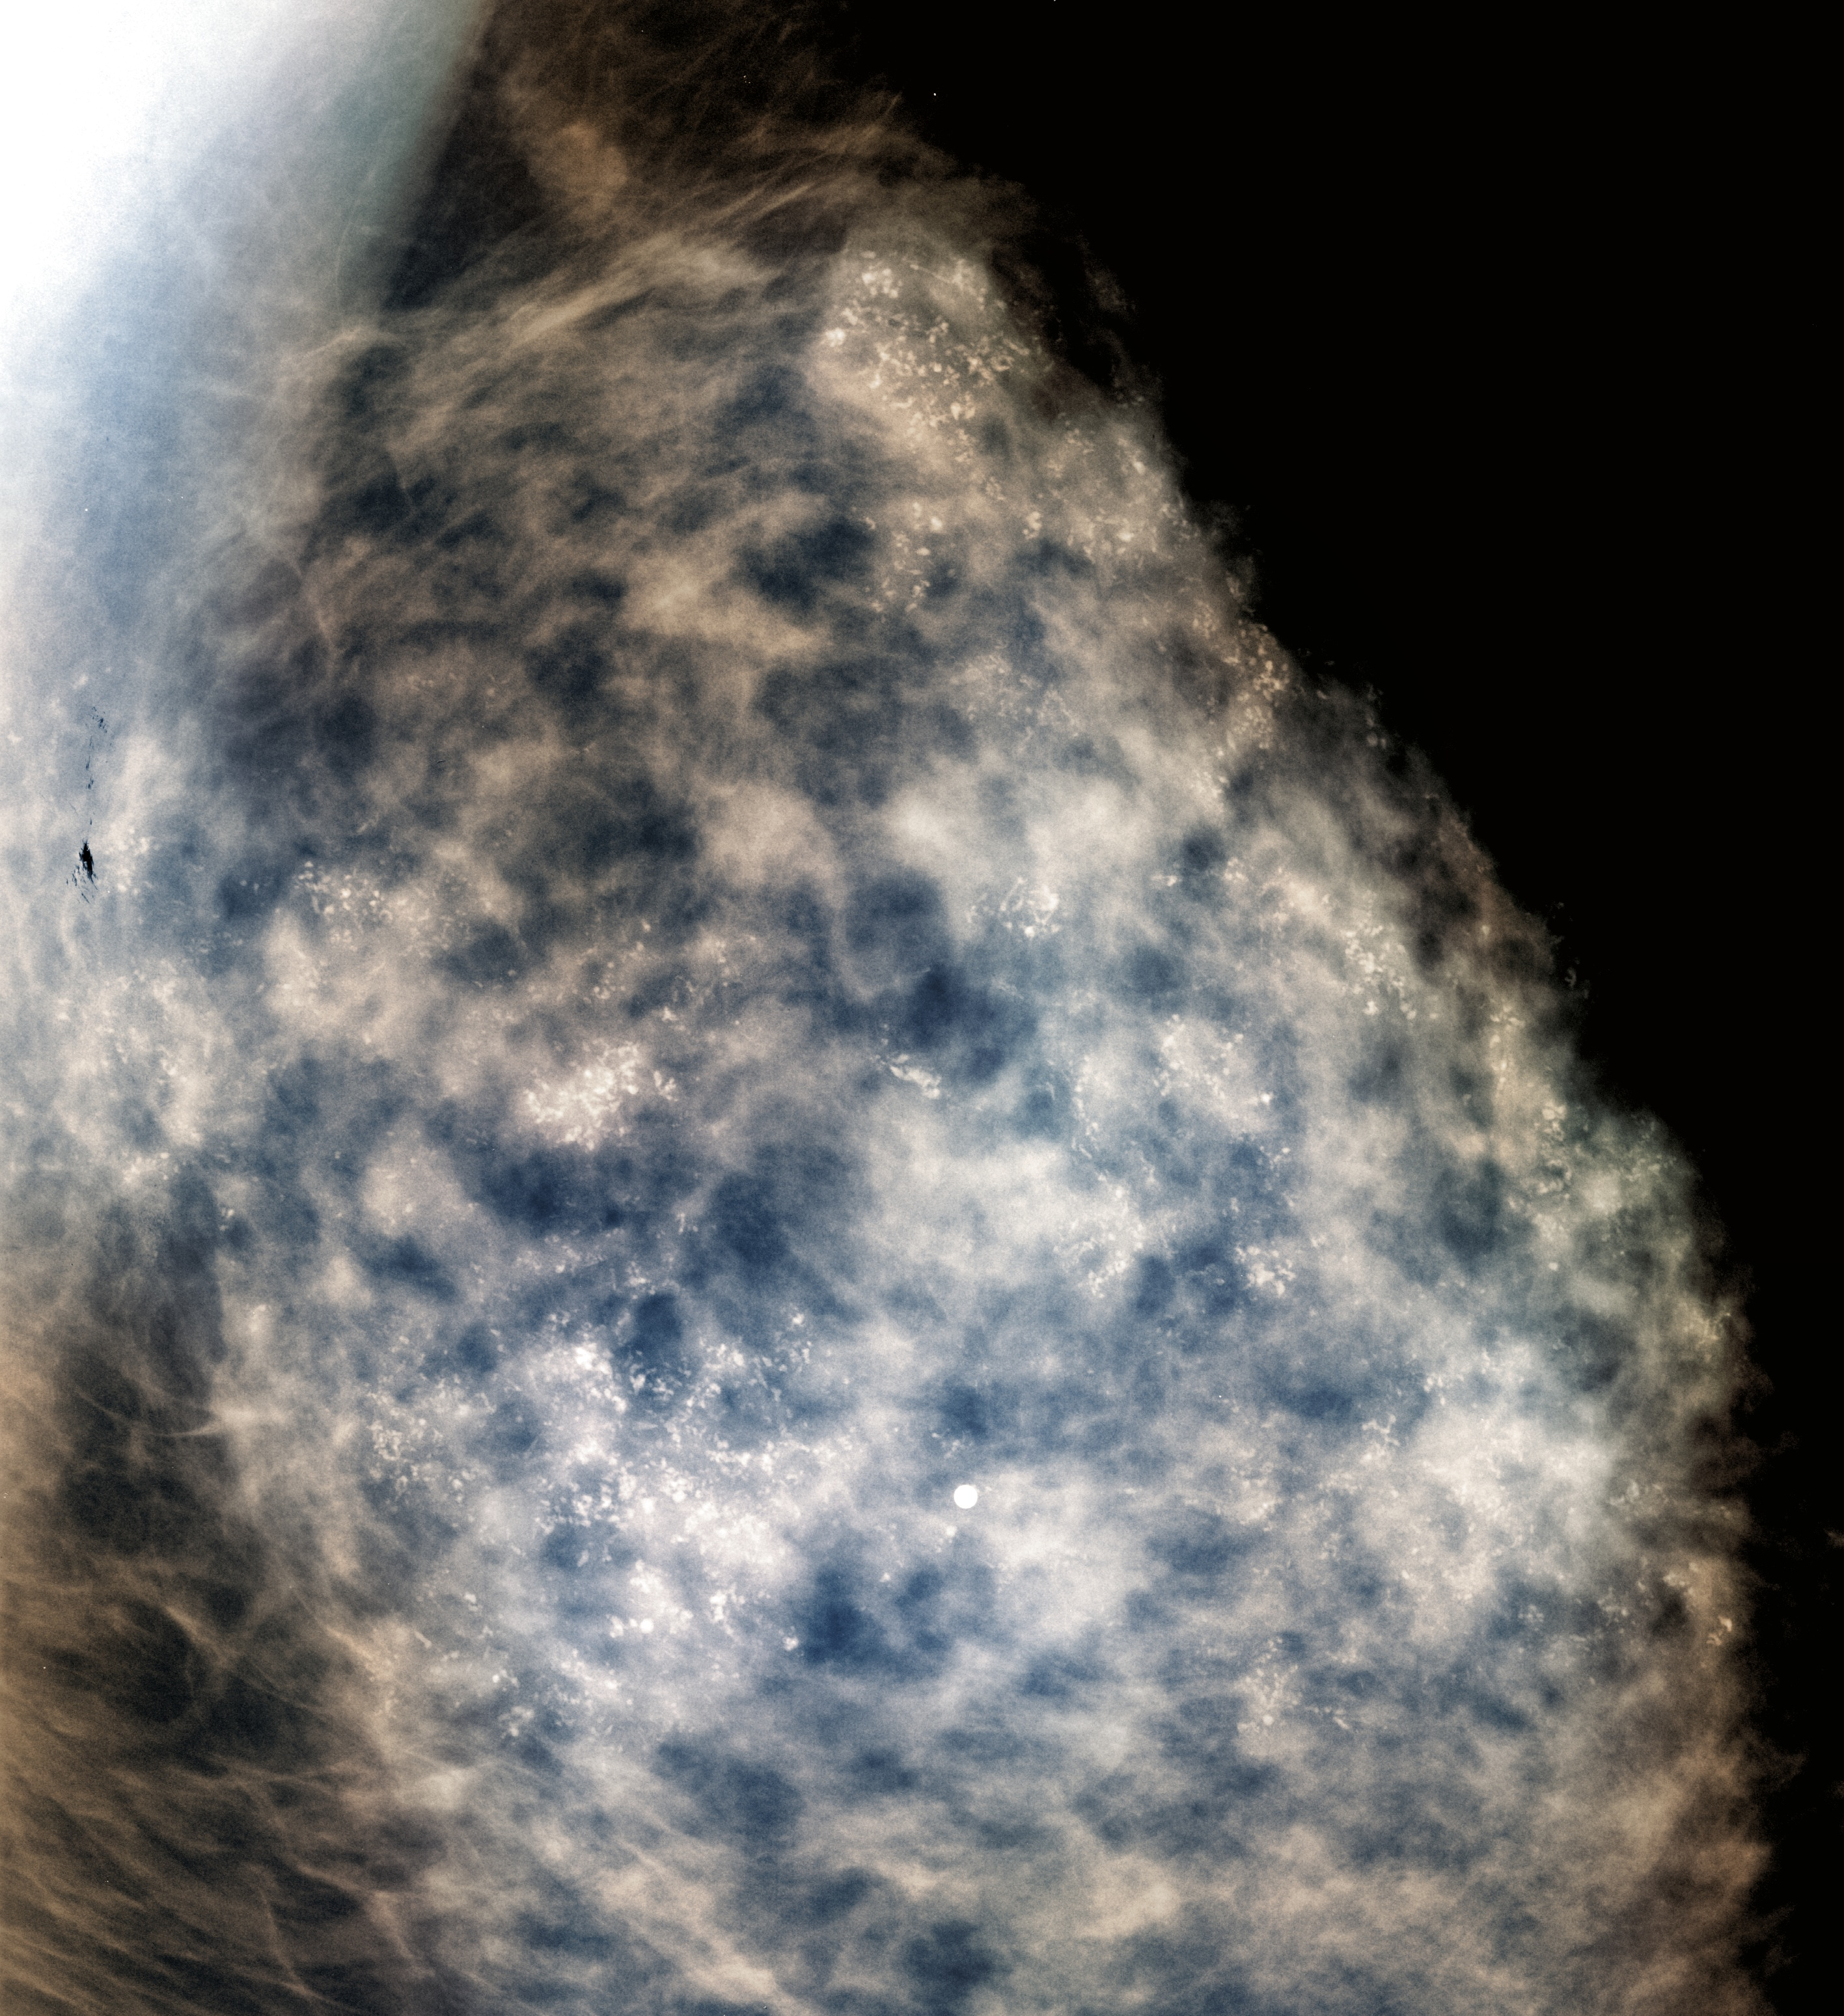tumor: (0, 0, 1844, 2016)
